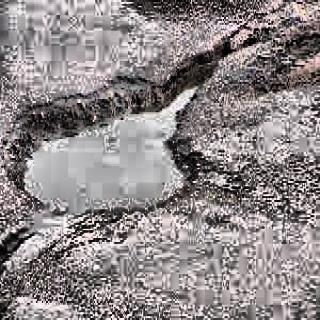crack: (1, 40, 242, 204)
